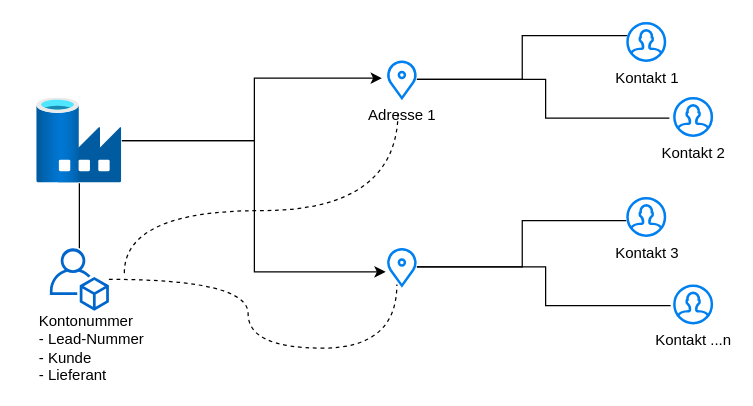
Image size: 753x406. Some labels were removed from this diagram. Here are the shapes that lost their labels. From the top down, the centre of each, then its label:
At (x=78, y=140): "Geschäftspartner".
At (x=401, y=266): "Adresse ..n".
